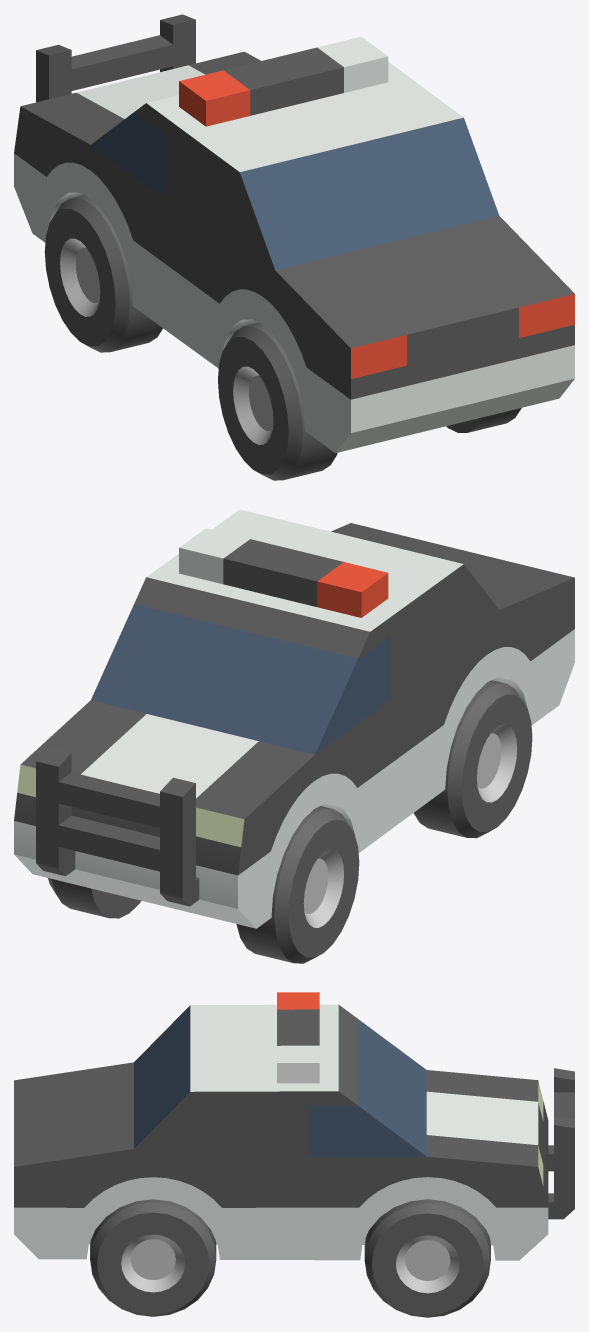
File: carPolice.fbx
The picture shows the model from 3 angles, top to bottom: view 1: azimuth 30°, elevation 25°; view 2: azimuth 150°, elevation 25°; view 3: azimuth 270°, elevation 25°; orthographic projection. The views are drawn at different scales.
Parts seen in each view (by area): view 1: body 6, wheelBackLeft 6, wheelFrontLeft 6, bar 2, wheelBackRight 6; view 2: body 6, bar 2, wheelFrontLeft 6, wheelBackLeft 6, wheelFrontRight 6; view 3: body 6, wheelFrontRight 6, wheelBackRight 6, bar 2.
Boxes of the visible parts, bbox=[...] form: body 6: bbox=[14, 36, 574, 453]; wheelBackLeft 6: bbox=[218, 322, 337, 480]; wheelFrontLeft 6: bbox=[44, 195, 162, 352]; bar 2: bbox=[36, 14, 195, 102]; wheelBackRight 6: bbox=[446, 408, 521, 432]; body 6: bbox=[14, 509, 574, 928]; bar 2: bbox=[36, 747, 199, 906]; wheelFrontLeft 6: bbox=[236, 806, 359, 963]; wheelBackLeft 6: bbox=[414, 680, 532, 838]; wheelFrontRight 6: bbox=[48, 878, 141, 918]; body 6: bbox=[14, 992, 548, 1260]; wheelFrontRight 6: bbox=[364, 1199, 490, 1317]; wheelBackRight 6: bbox=[90, 1199, 216, 1316]; bar 2: bbox=[548, 1068, 574, 1219].
Size of the model in its own units: 4.95 by 6.06 by 12.44.
